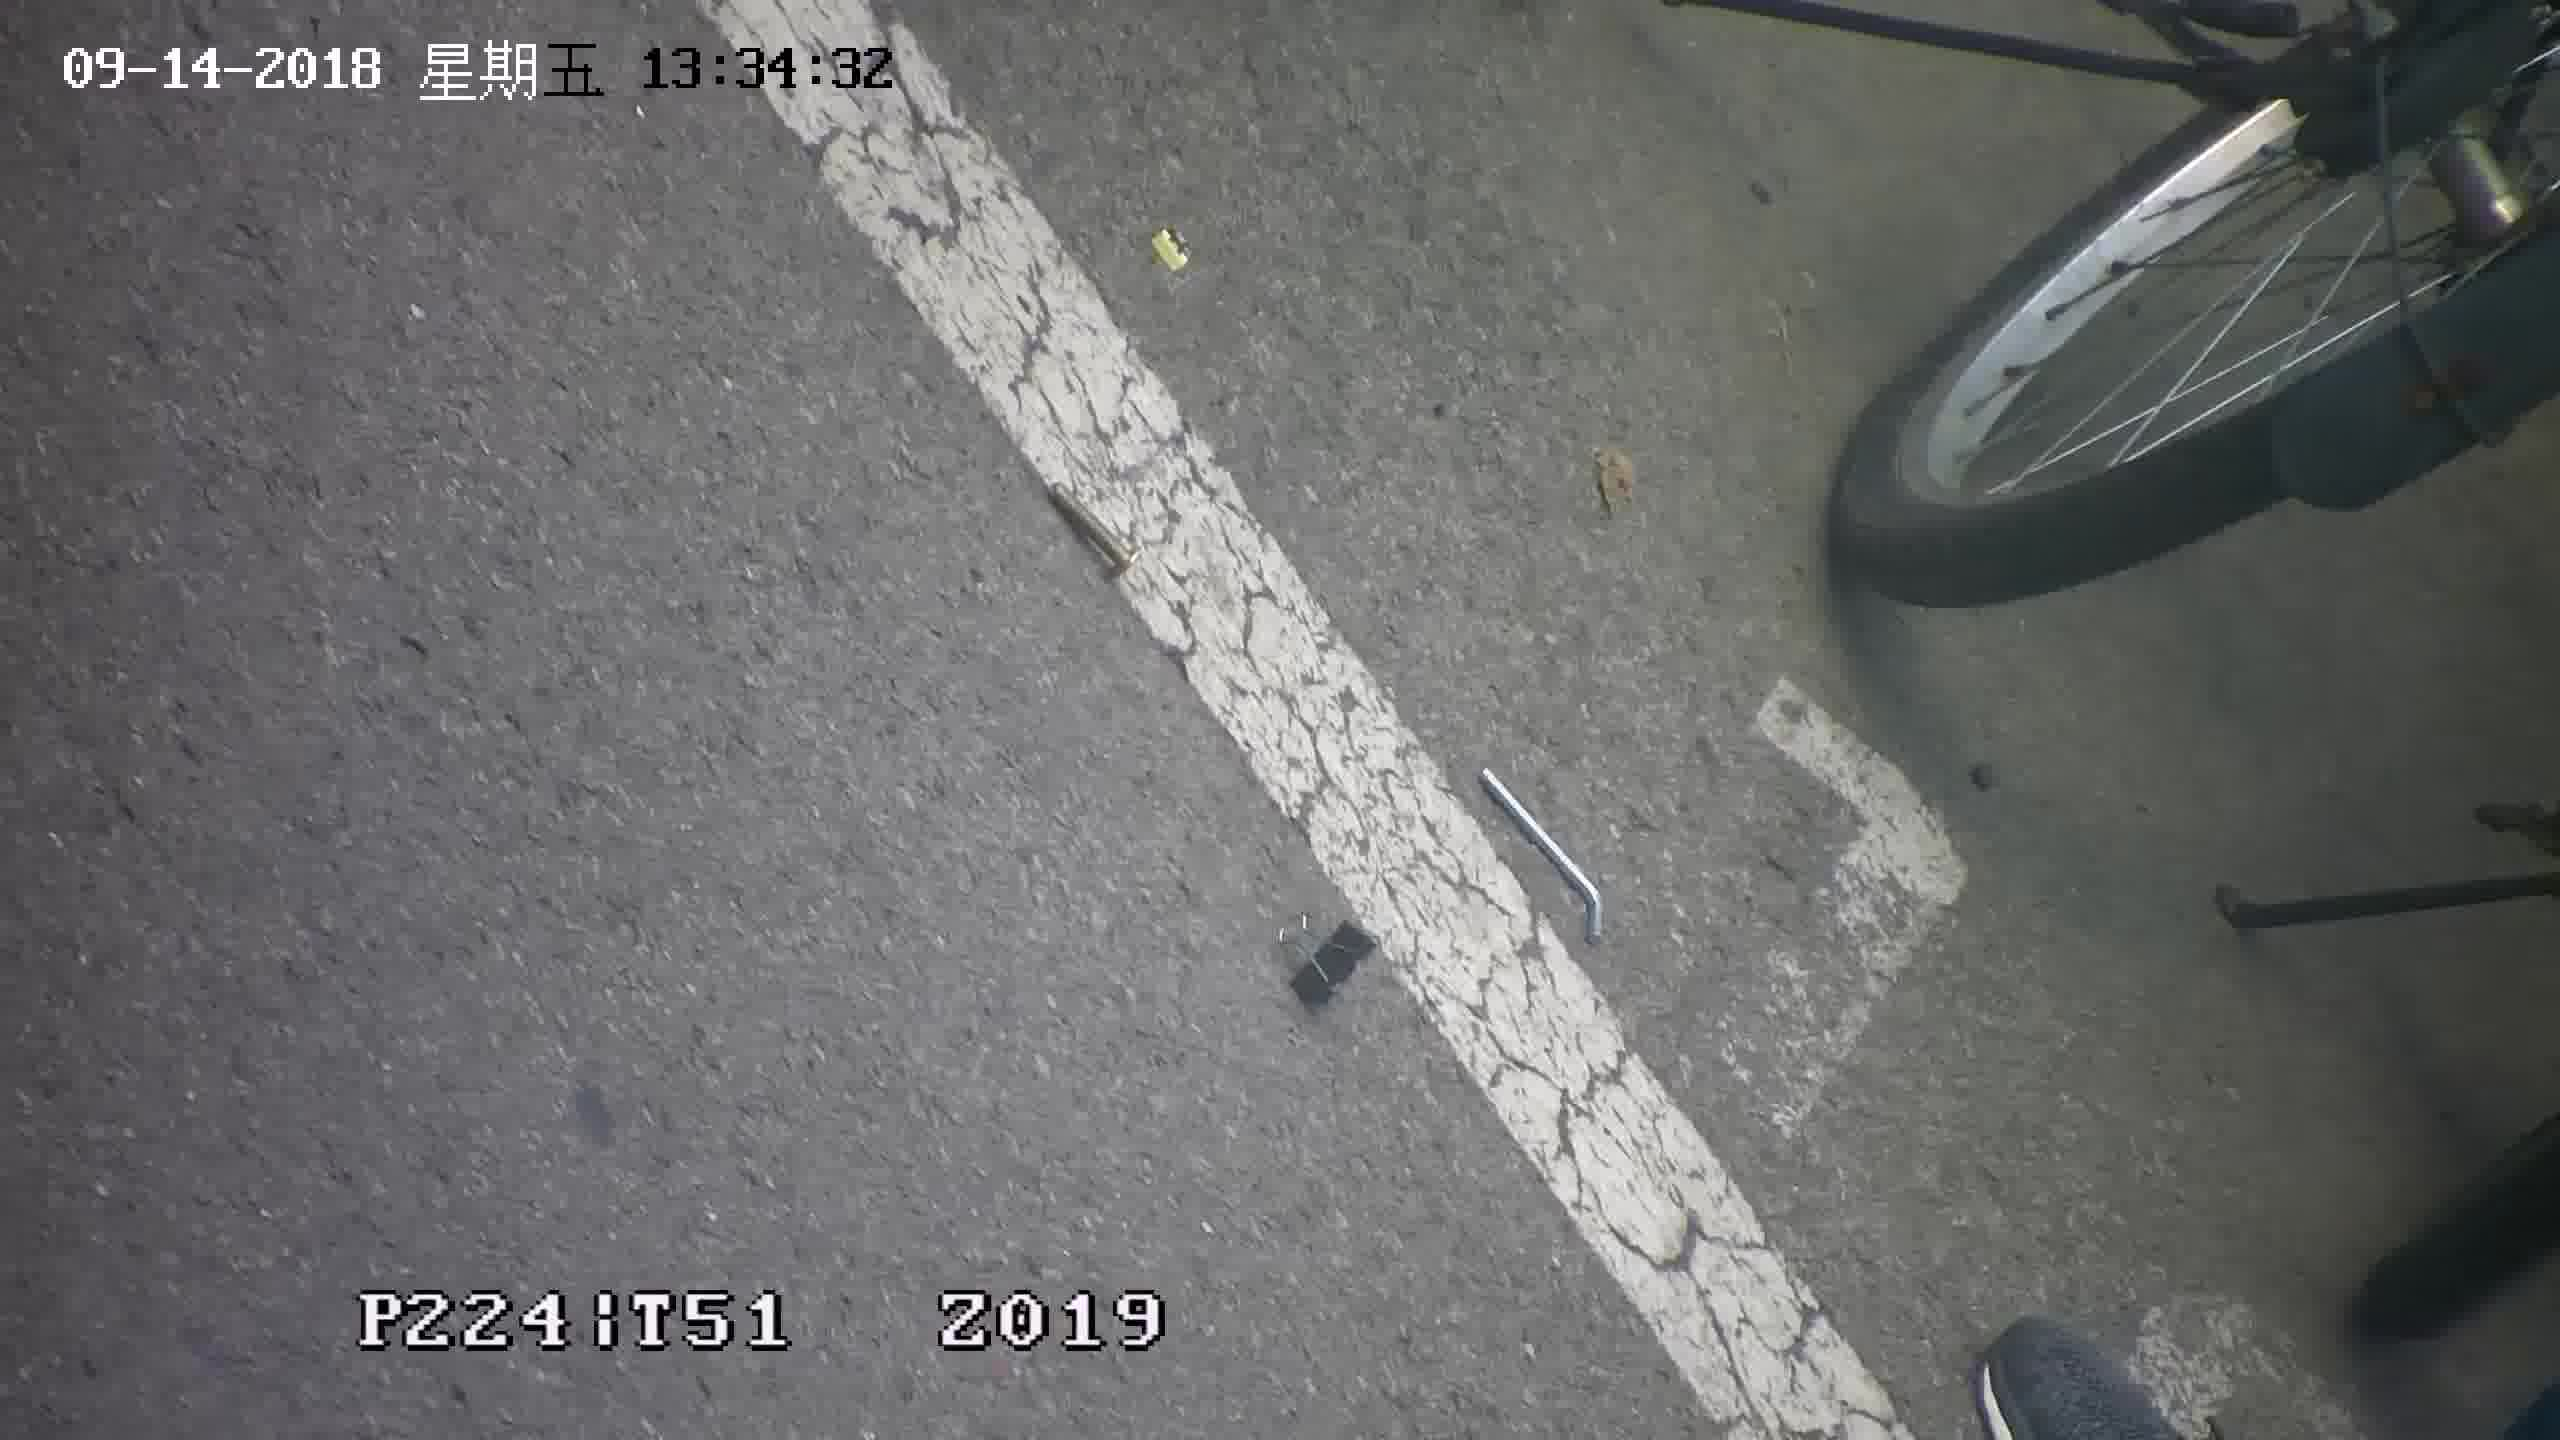L_stick: (1468, 751, 1611, 951)
clip_B: (1268, 911, 1391, 1009)
clip_Y: (1139, 222, 1204, 290)
nail: (1041, 471, 1153, 587)
